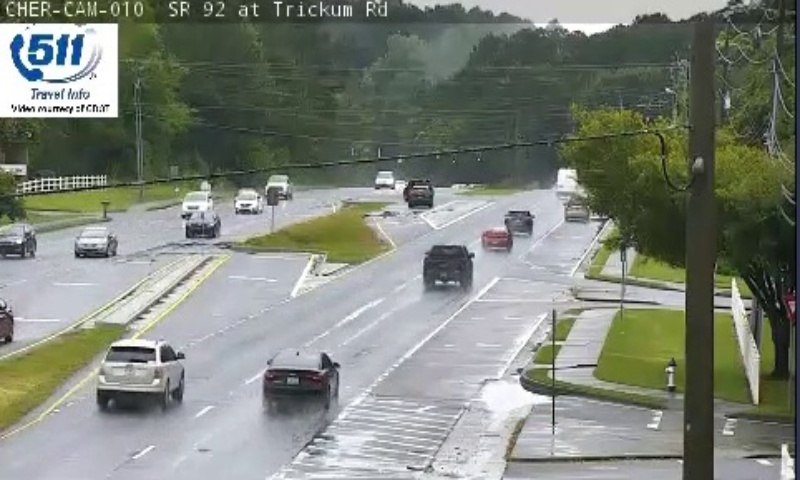car: (97, 341, 182, 396), (265, 350, 338, 400), (423, 244, 473, 284), (504, 209, 534, 234), (481, 227, 512, 250)
